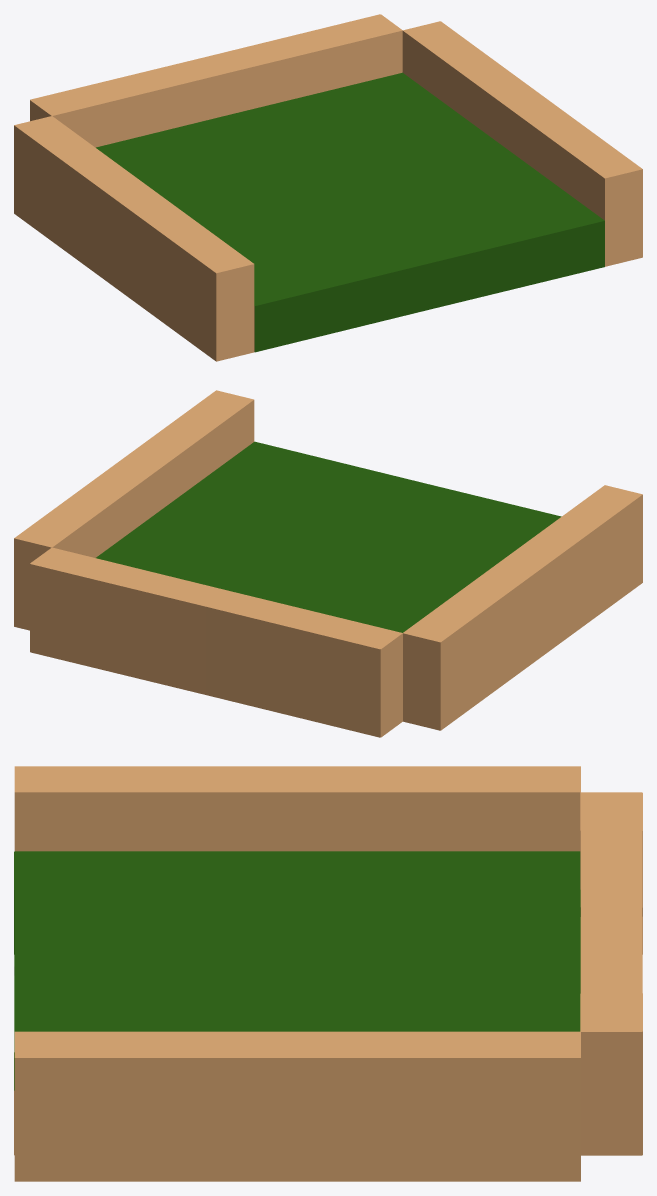
File: NewLego.fbx
3 renders of one model, top to bottom at view 1: azimuth 30°, elevation 25°; view 2: azimuth 150°, elevation 25°; view 3: azimuth 270°, elevation 25°, orthographic. The views are drawn at different scales.
Parts seen in each view (by area): view 1: Cube.070, Cube.059; view 2: Cube.059, Cube.070; view 3: Cube.059, Cube.070.
Part boxes in pixels (box(x1,y1,x2,y2)): Cube.070: box(96, 72, 604, 352); Cube.059: box(14, 14, 642, 361); Cube.059: box(14, 390, 642, 737); Cube.070: box(96, 441, 561, 632); Cube.059: box(14, 766, 642, 1181); Cube.070: box(14, 851, 580, 1090).
Bounding box in the file's own units: 220 × 43.6 × 201.
